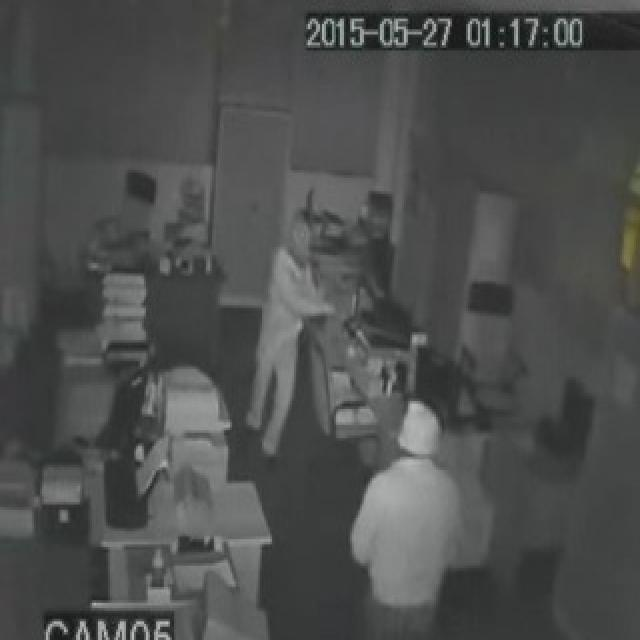thief: (380, 385, 460, 515), (251, 211, 317, 361)
